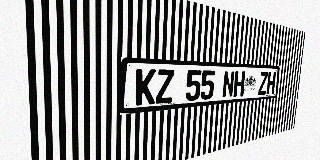5: (185, 70, 202, 101), (200, 70, 215, 100)
H: (233, 71, 245, 97), (266, 72, 276, 94)
K: (135, 69, 156, 106)
N: (222, 71, 235, 98)
Z: (155, 69, 174, 104), (258, 72, 268, 95)
